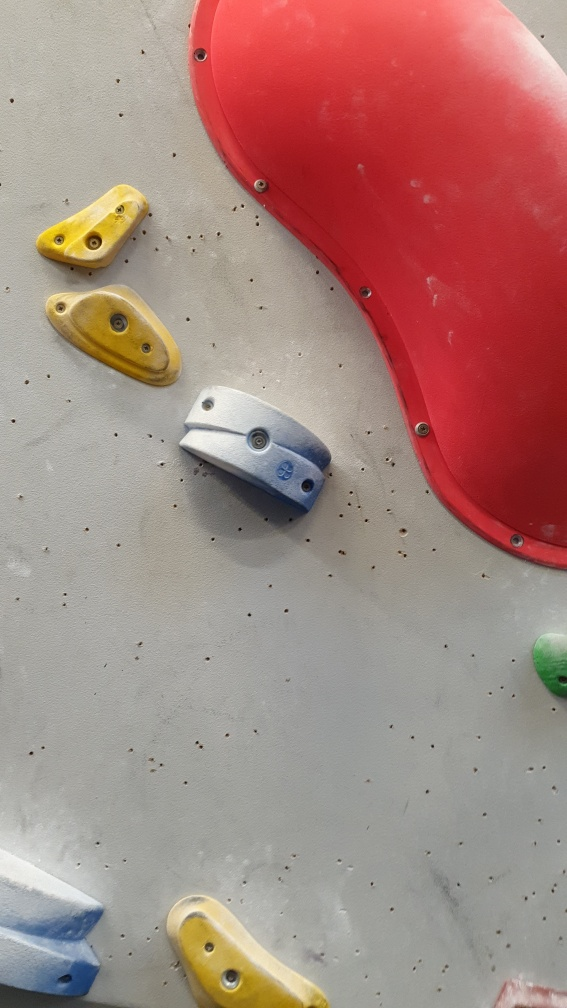Crimp: (173, 903, 314, 1008), (66, 286, 175, 381), (60, 195, 147, 272)
Pinch: (178, 380, 334, 516), (1, 849, 110, 1002)
